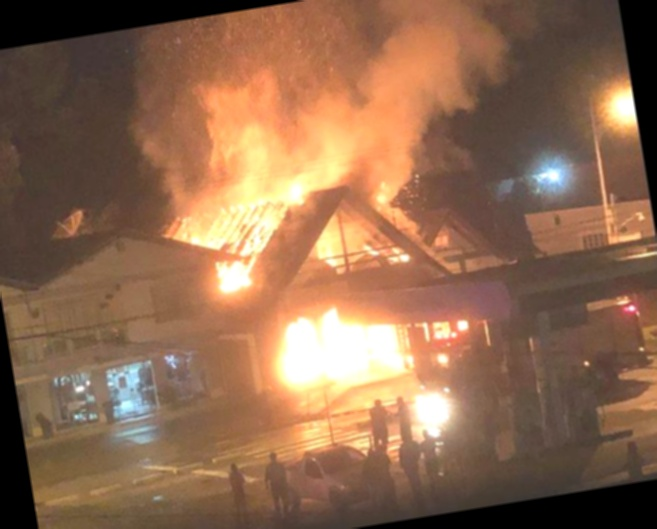fire: (250, 291, 404, 397)
